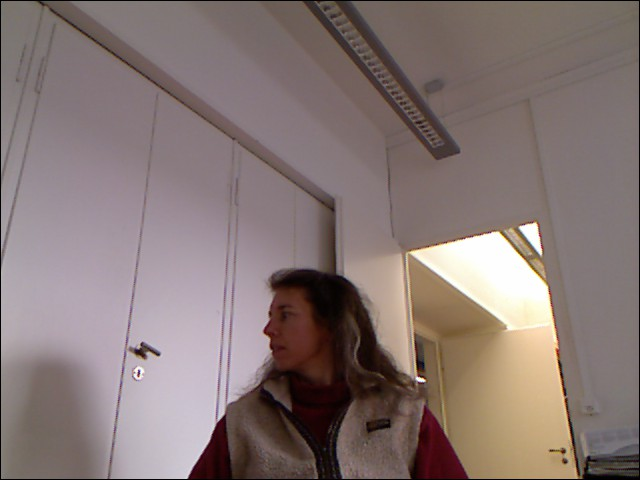deflection: (227, 269, 427, 474)
